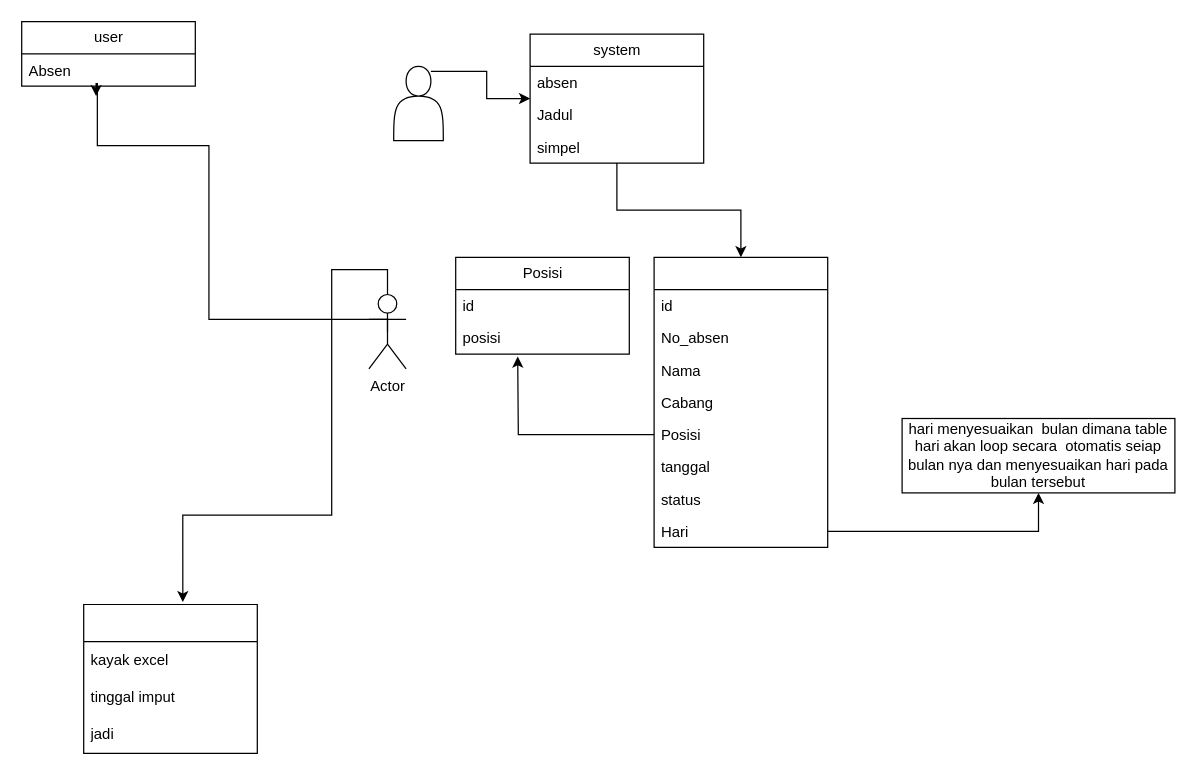
This 1197x775 diagram has some shape labels left out. Here are the shapes that lost their labels. From the top down, the box of each, then its label:
(653, 256, 828, 547): db_absens
(82, 603, 257, 753): pikiran user
